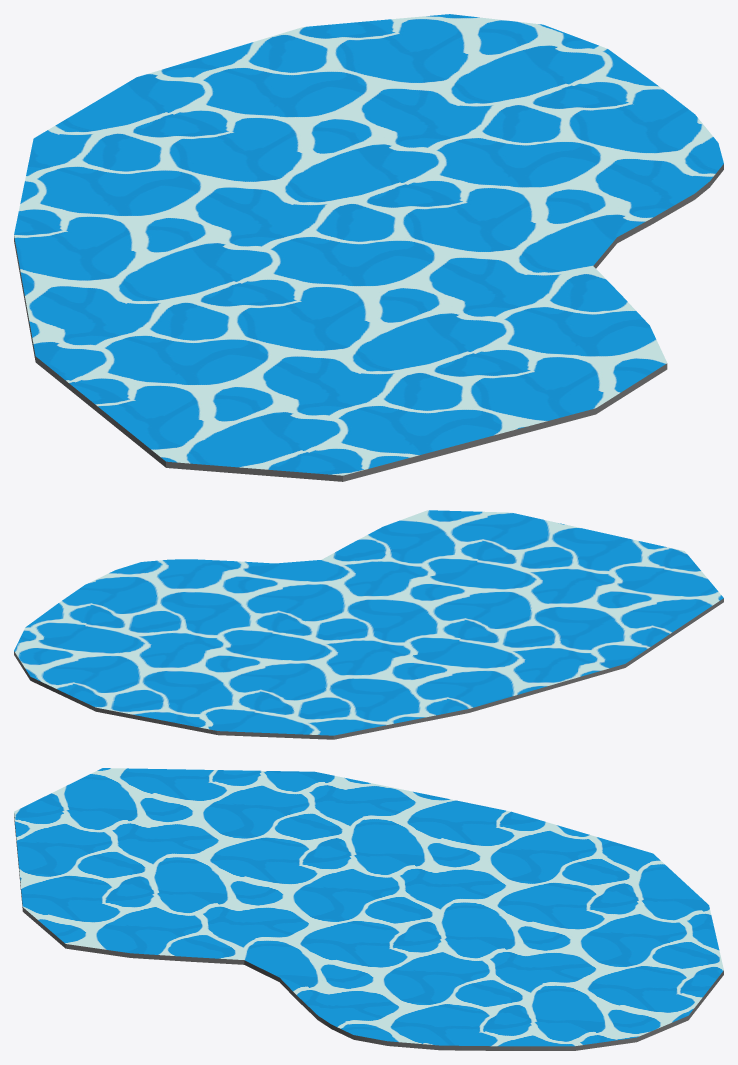
File: Lago.obj
The picture shows the model from 3 angles, top to bottom: view 1: azimuth 30°, elevation 25°; view 2: azimuth 150°, elevation 25°; view 3: azimuth 270°, elevation 25°; orthographic projection. The views are drawn at different scales.
Parts seen in each view (by area): view 1: polySurface1; view 2: polySurface1; view 3: polySurface1.
Part boxes in pixels (bbox=[...]): polySurface1: bbox=[14, 14, 723, 481]; polySurface1: bbox=[14, 510, 723, 739]; polySurface1: bbox=[14, 768, 723, 1050].
Bounding box in the file's own units: 10.9 × 0.0861 × 11.76.
Materials: 2 (1 with a texture image).
